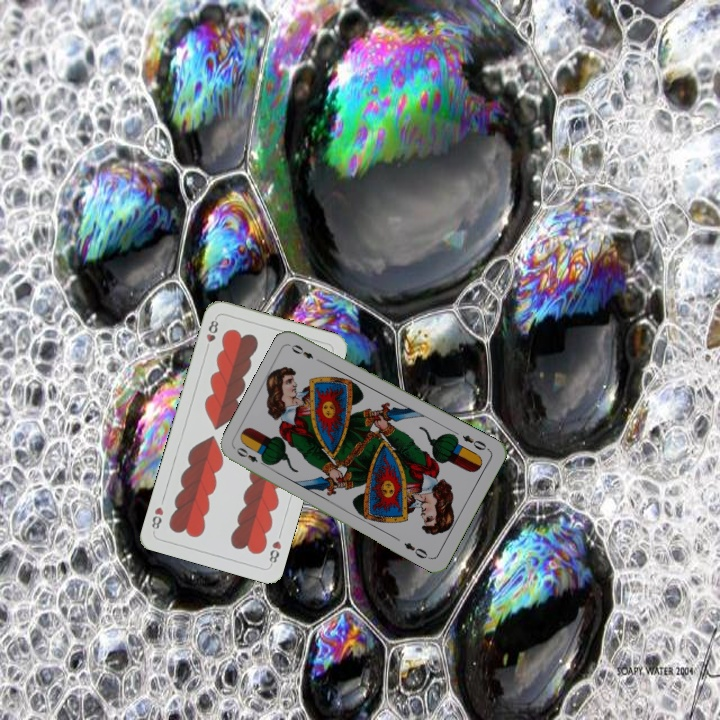EO: (232, 443, 270, 469), (458, 431, 492, 453)
H8: (202, 314, 221, 353), (265, 537, 284, 568)
